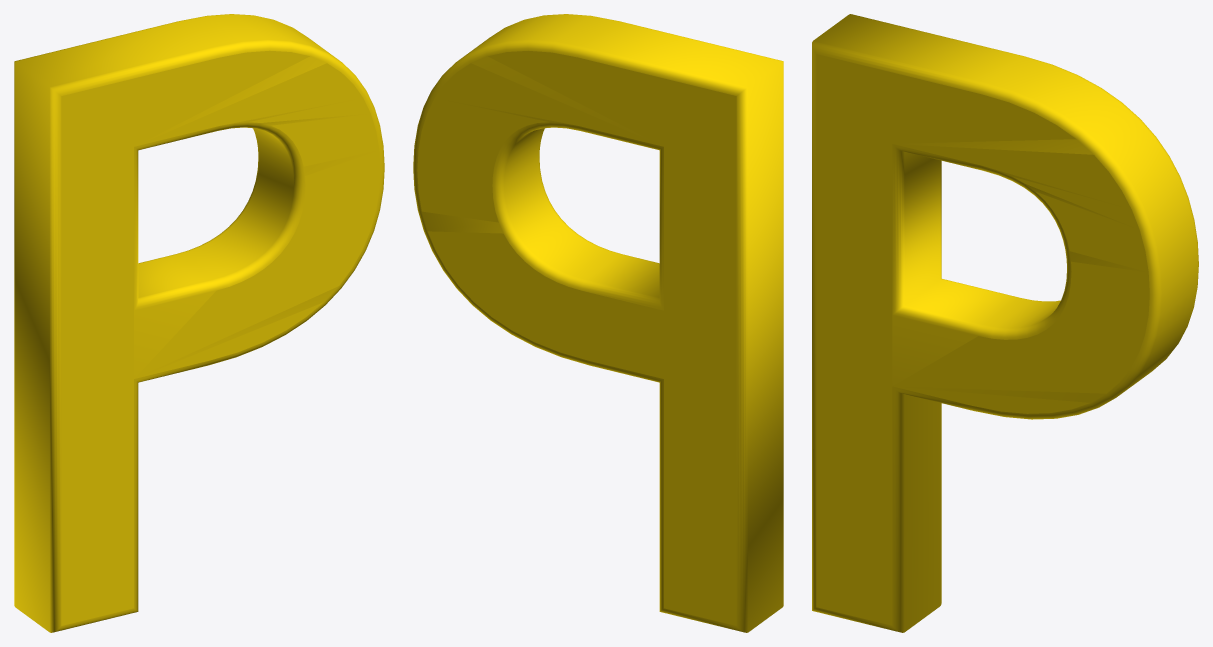
3 views of the same model, side by side, from view 1: azimuth 30°, elevation 25°; view 2: azimuth 150°, elevation 25°; view 3: azimuth 330°, elevation 25° (orthographic). The views are drawn at different scales.
Visible parts, largest first — view 1: PP; view 2: PP; view 3: PP.
Boxes of the visible parts, x1,y1,x2,y2 form: PP: (14, 14, 384, 632); PP: (413, 14, 783, 632); PP: (812, 14, 1198, 632).
Bounding box in the file's own units: 0.3205 × 0.5 × 0.0713.
